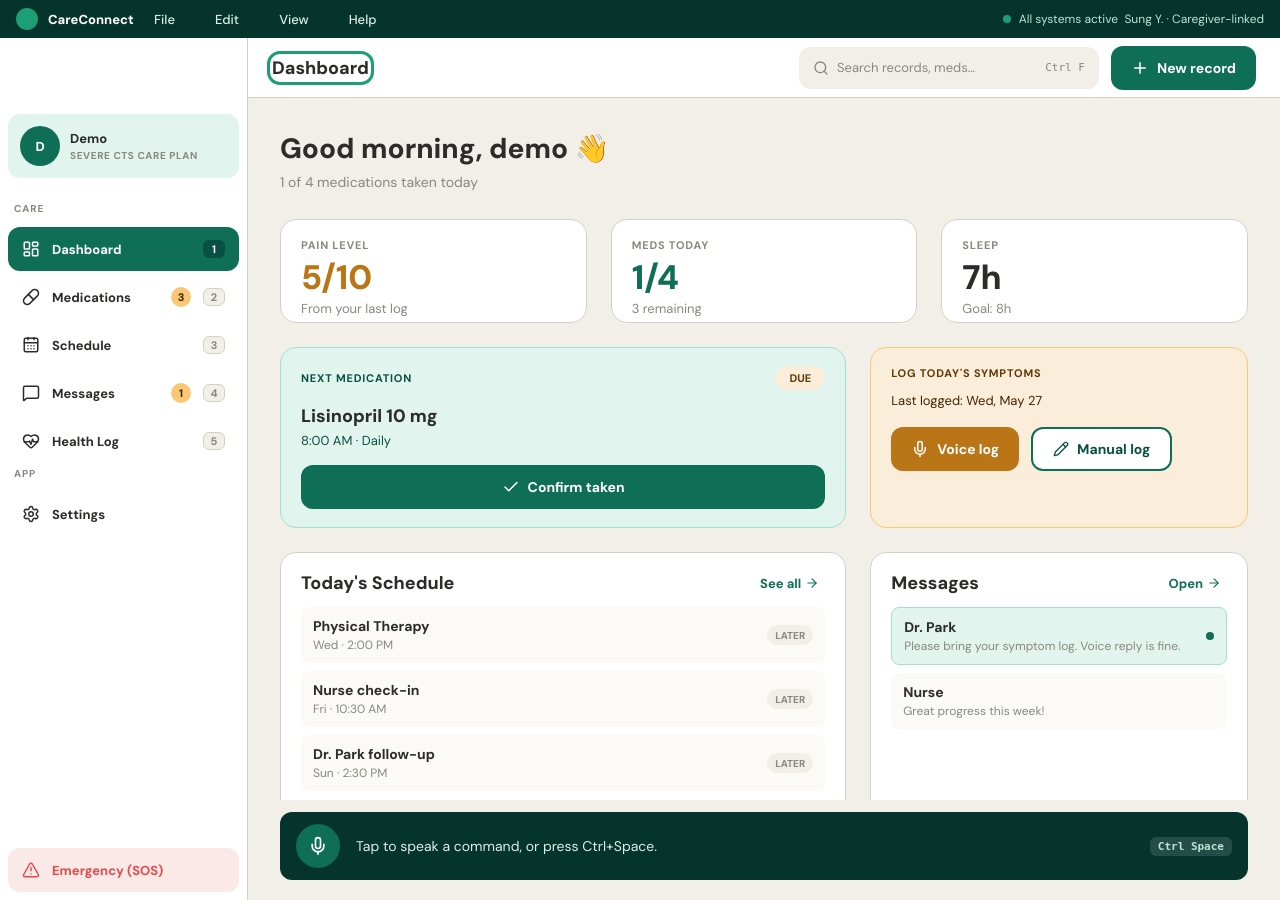
Test: DashboardScreen › surfaces a hint for unrecognized commands and stays put
Check: the heading "Dashboard" is shown, box [272,56,369,80]
Click the button named "Start voice command" at {"x": 318, "y": 846}, box [296,824,340,868]
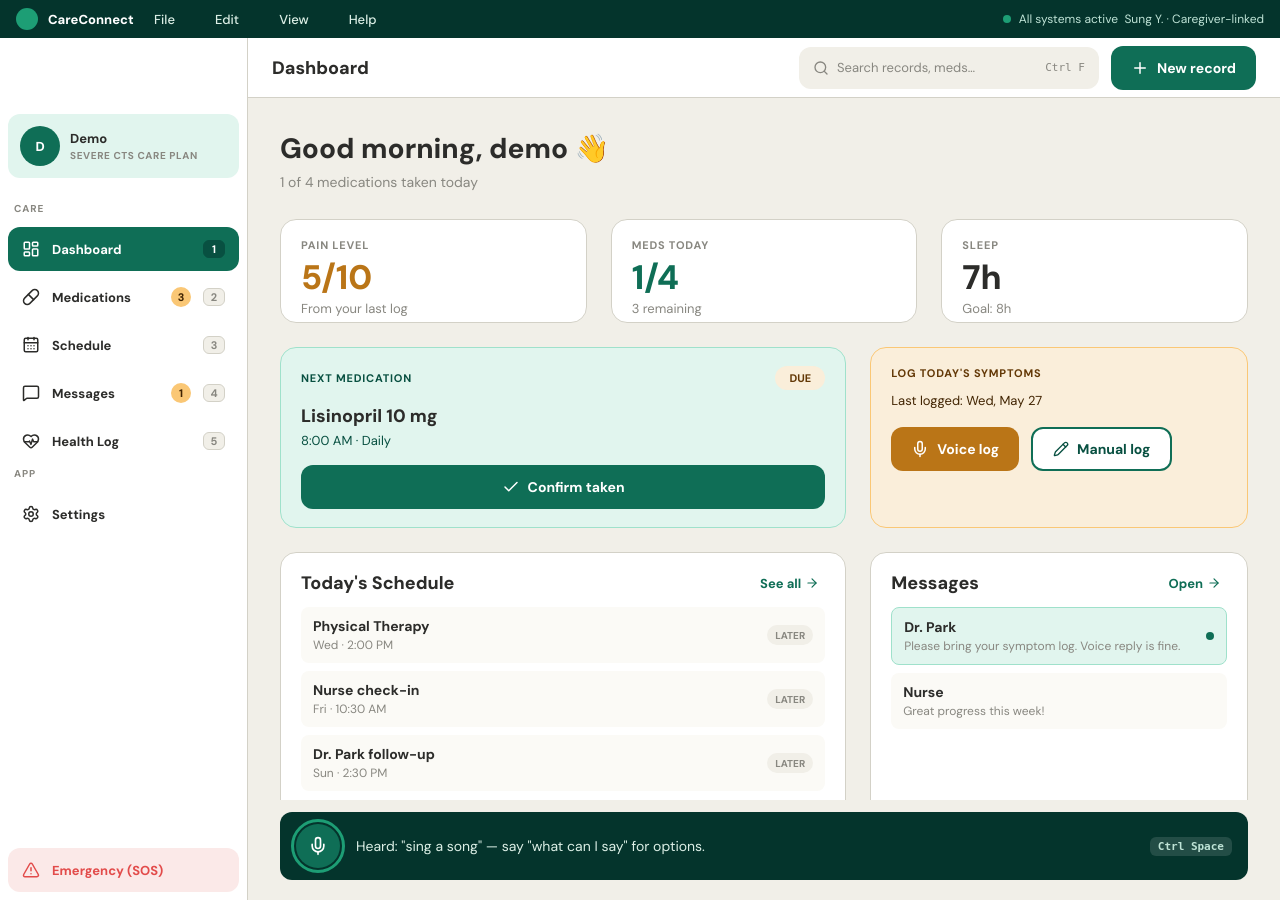
Check: the heading "Dashboard" is shown, box [272,56,369,80]
Check: the text "Heard: \"sing a song\" — say \"what can I say\" for options." is shown, box [356,837,705,855]
